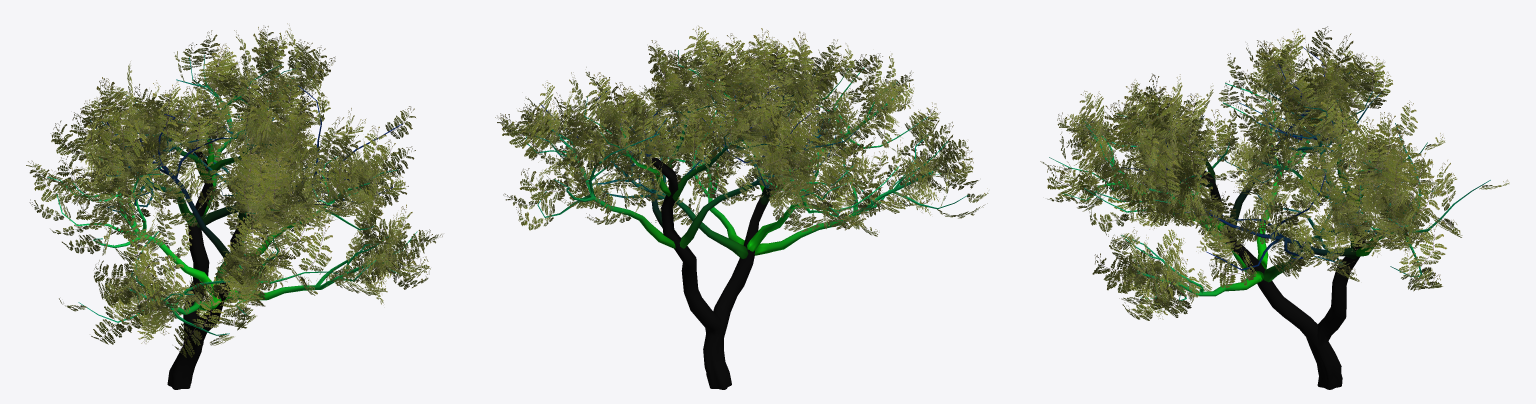
The model's file is acacia01.fbx.
3 renders of one model, left to right at view 1: azimuth 30°, elevation 25°; view 2: azimuth 150°, elevation 25°; view 3: azimuth 270°, elevation 25°, orthographic. The views are drawn at different scales.
Parts seen in each view (by area): view 1: Tree_1, Tree_2, Tree_0; view 2: Tree_1, Tree_0, Tree_2; view 3: Tree_1, Tree_2, Tree_0.
Boxes of the visible parts, x1=… form: Tree_1: x1=26, y1=23, x2=442, y2=357; Tree_2: x1=79, y1=57, x2=402, y2=343; Tree_0: x1=47, y1=54, x2=417, y2=389; Tree_1: x1=495, y1=25, x2=988, y2=236; Tree_0: x1=525, y1=50, x2=968, y2=389; Tree_2: x1=532, y1=37, x2=946, y2=215; Tree_1: x1=1040, y1=26, x2=1509, y2=320; Tree_2: x1=1065, y1=62, x2=1423, y2=319; Tree_0: x1=1049, y1=46, x2=1490, y2=389.
Size of the model in its own units: 166 by 124 by 166.
